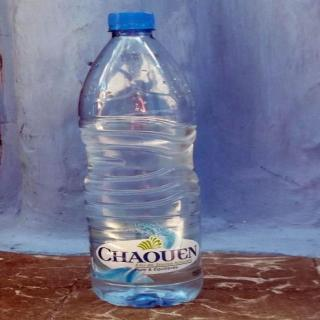Plastic-bottle: (66, 8, 222, 308)
